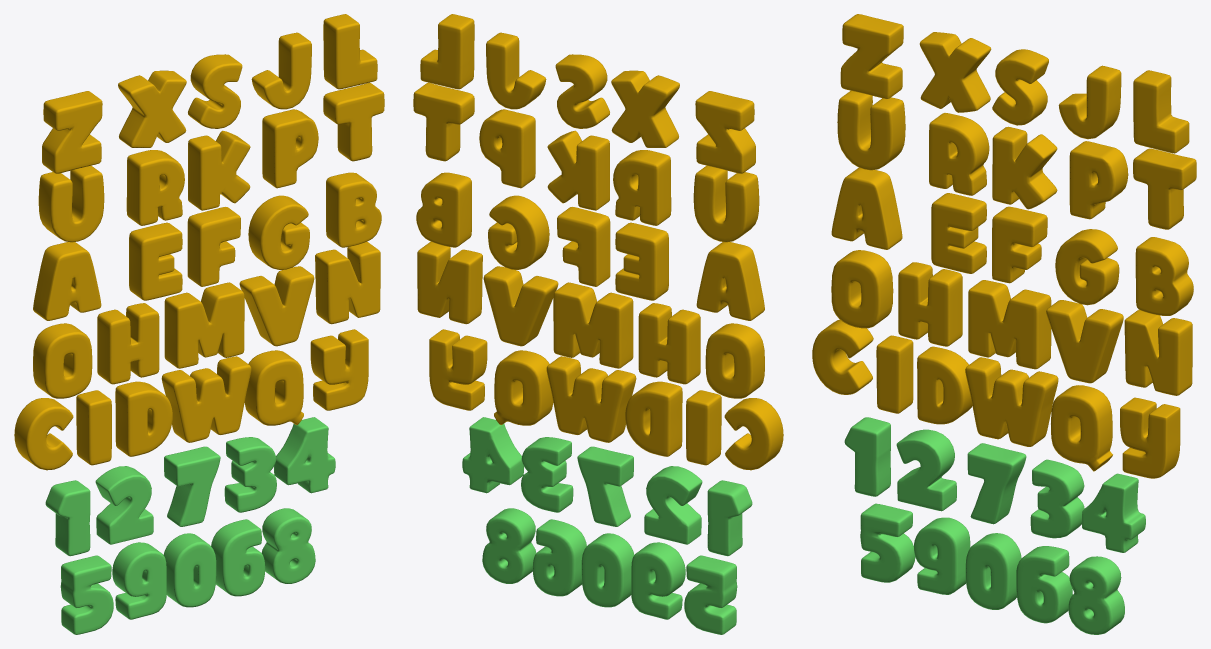
File: Abecedario.fbx
3 views of the same model, side by side, from view 1: azimuth 30°, elevation 25°; view 2: azimuth 150°, elevation 25°; view 3: azimuth 330°, elevation 25° (orthographic). The views are drawn at different scales.
Visible parts, largest first — view 1: A:M, A:W, A:N, A:H, A:U, A:Z, A:A, A:V, A:Y, A:X, A:K, A:R (+24 smaller); view 2: A:M, A:W, A:N, A:H, A:U, A:Z, A:A, A:V, A:Y, A:X, A:K, A:R (+24 smaller); view 3: A:M, A:W, A:N, A:H, A:U, A:V, A:A, A:Q, A:X, A:Z, A:Y, A:K (+24 smaller).
Boxes of the visible parts, x1,y1,x2,y2 form: A:M: (164,282,244,368); A:W: (161,356,251,442); A:N: (315,241,380,324); A:H: (97,303,159,384); A:U: (38,165,104,242); A:Z: (42,91,102,173); A:A: (33,242,101,320); A:V: (239,266,314,346); A:Y: (310,329,368,410); A:X: (118,70,186,147); A:K: (188,130,250,210); A:R: (126,150,184,225); A:M: (553,282,633,368); A:W: (546,356,636,442); A:N: (417,241,482,324); A:H: (638,303,700,384); A:U: (693,165,759,242); A:Z: (695,91,755,173); A:A: (696,242,764,320); A:V: (483,266,558,346); A:Y: (429,329,487,410); A:X: (611,70,679,147); A:K: (547,130,609,210); A:R: (613,150,671,225); A:M: (968,280,1051,369); A:W: (965,357,1058,446); A:N: (1124,310,1192,395); A:H: (898,262,962,346); A:U: (837,90,905,170); A:V: (1046,300,1123,383); A:A: (831,167,902,249); A:Q: (1051,385,1112,471); A:X: (919,32,991,112); A:Z: (840,14,903,98); A:Y: (1120,397,1180,478); A:K: (992,126,1057,209).
Bounding box in the file's own units: 202 × 294 × 13.53.
